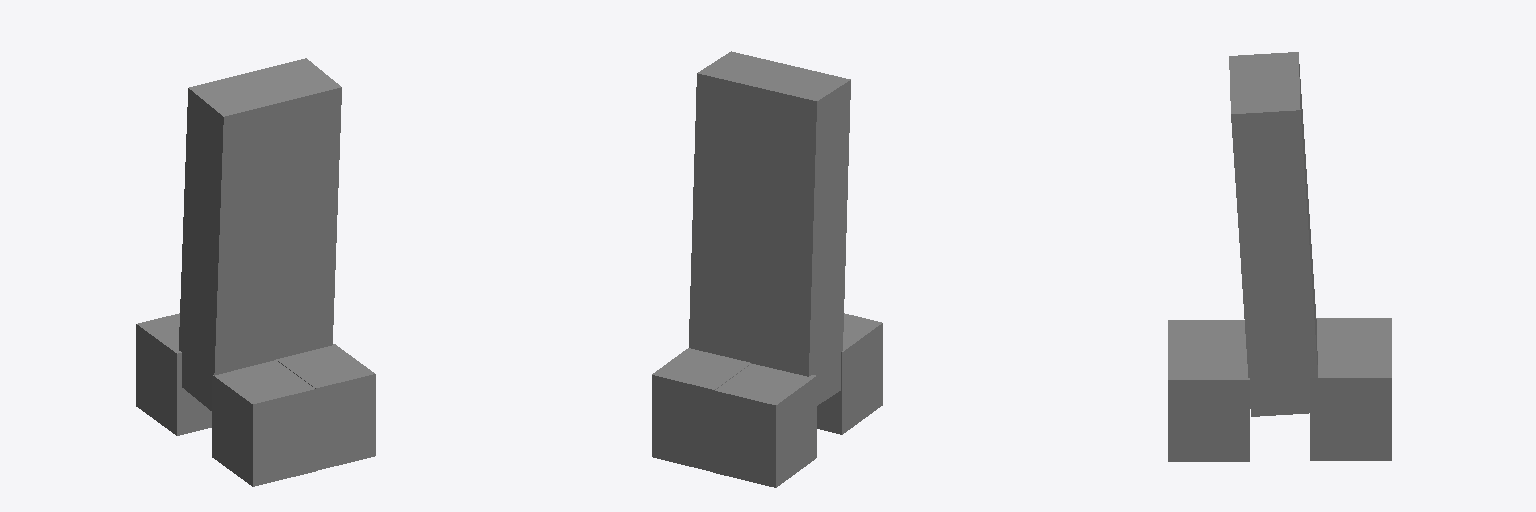
File: CreeperBody.obj
The picture shows the model from 3 angles: view 1: azimuth 30°, elevation 25°; view 2: azimuth 150°, elevation 25°; view 3: azimuth 270°, elevation 25°; orthographic projection.
Parts seen in each view (by area): view 1: Cube_003; view 2: Cube_003; view 3: Cube_003.
Part boxes in pixels (bbox=[...]): Cube_003: bbox=[136, 58, 375, 486]; Cube_003: bbox=[652, 51, 882, 487]; Cube_003: bbox=[1168, 52, 1391, 461].
Bounding box in the file's own units: 0.3882 × 1.02 × 0.5879.